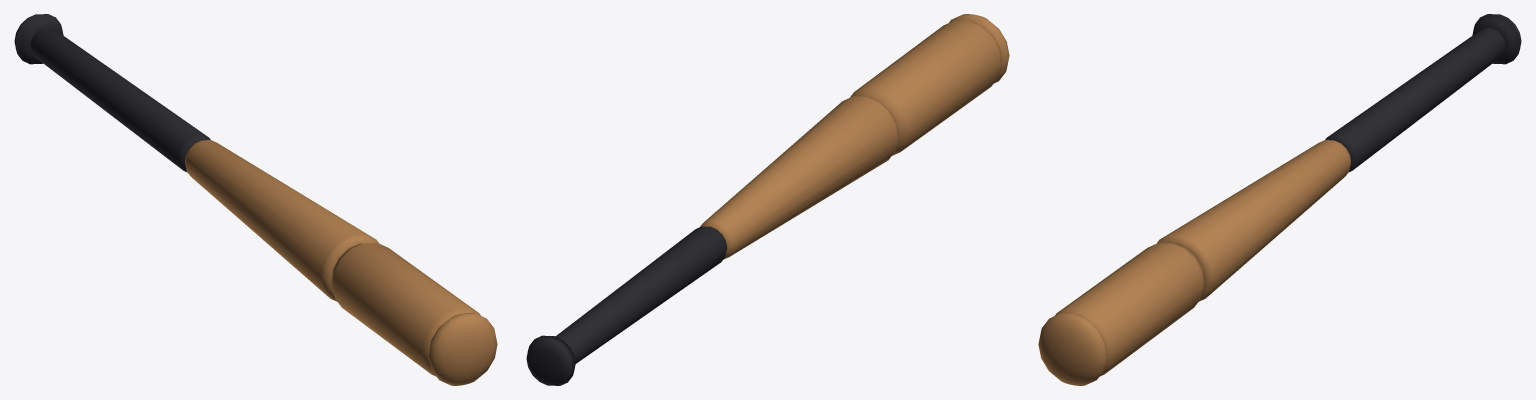
The model's file is bat.glb.
3 renders of one model, left to right at view 1: azimuth 30°, elevation 25°; view 2: azimuth 150°, elevation 25°; view 3: azimuth 330°, elevation 25°, orthographic.
Parts seen in each view (by area): view 1: bat; view 2: bat; view 3: bat.
Boxes of the visible parts, x1,y1,x2,y2 form: bat: [14, 14, 497, 385]; bat: [526, 14, 1009, 385]; bat: [1038, 14, 1521, 385].
Size of the model in its own units: 0.074 by 0.074 by 0.8317.
